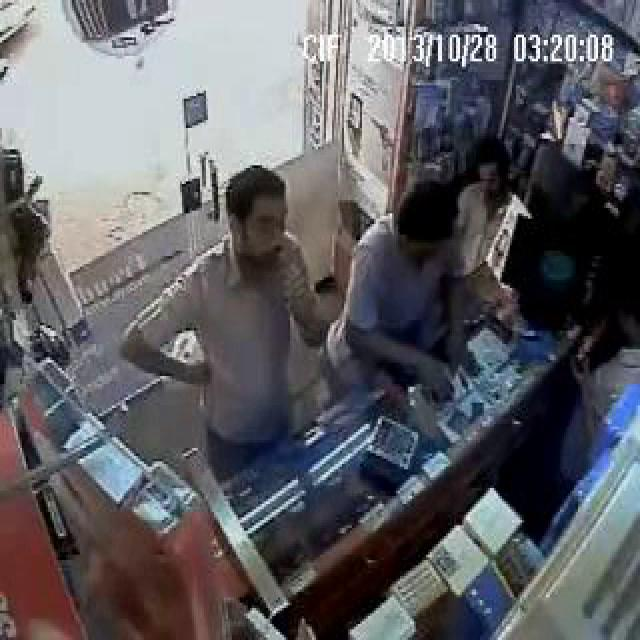shoplifting: (76, 0, 468, 565)
